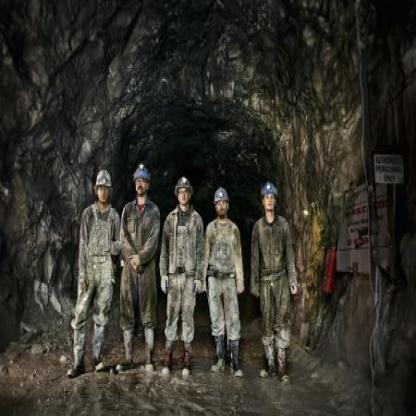helmet: (92, 166, 114, 206), (260, 178, 280, 219), (174, 177, 195, 211), (132, 164, 151, 198), (211, 185, 230, 219)
